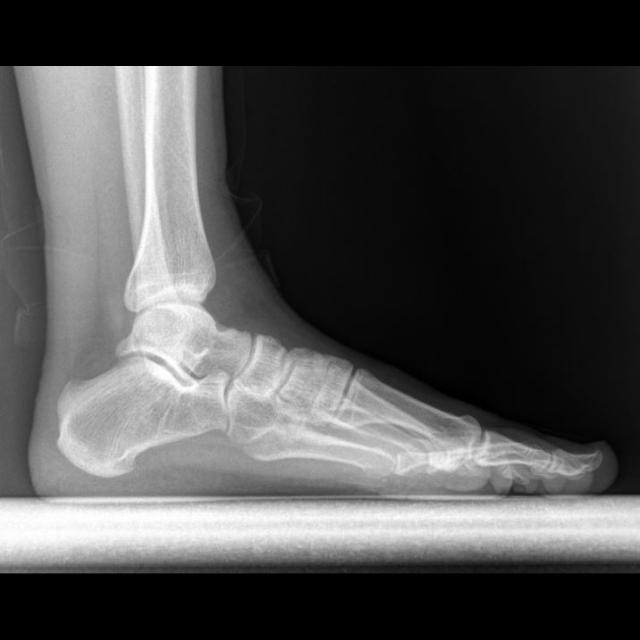a: (58, 355, 230, 478)
b: (234, 332, 292, 398)
c: (331, 365, 480, 468)
